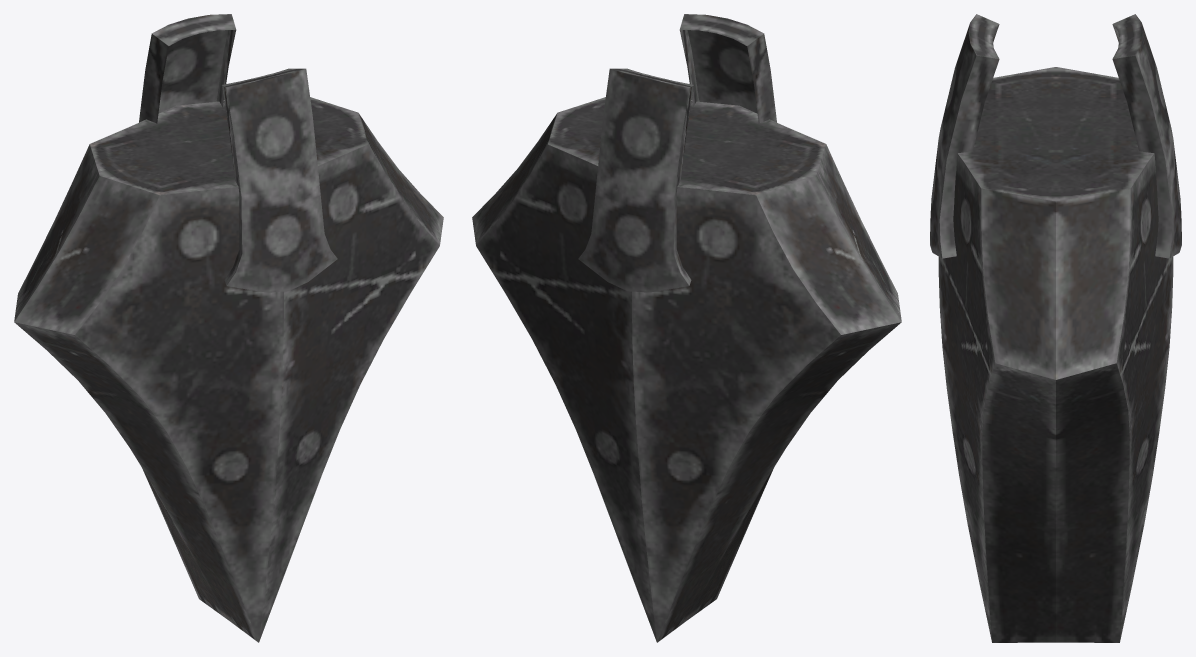
File: sm_uruk_sword_pommel_a2.fbx
3 views of the same model, side by side, from view 1: azimuth 30°, elevation 25°; view 2: azimuth 150°, elevation 25°; view 3: azimuth 270°, elevation 25° (orthographic). The views are drawn at different scales.
Visible parts, largest first — view 1: sm_uruk_sword_pommel_a2; view 2: sm_uruk_sword_pommel_a2; view 3: sm_uruk_sword_pommel_a2.
Boxes of the visible parts, bbox=[...] form: sm_uruk_sword_pommel_a2: bbox=[14, 14, 443, 642]; sm_uruk_sword_pommel_a2: bbox=[472, 14, 901, 642]; sm_uruk_sword_pommel_a2: bbox=[930, 14, 1181, 642].
Bounding box in the file's own units: 0.104 × 0.0495 × 0.1324.
Materials: 1 (1 with a texture image).
